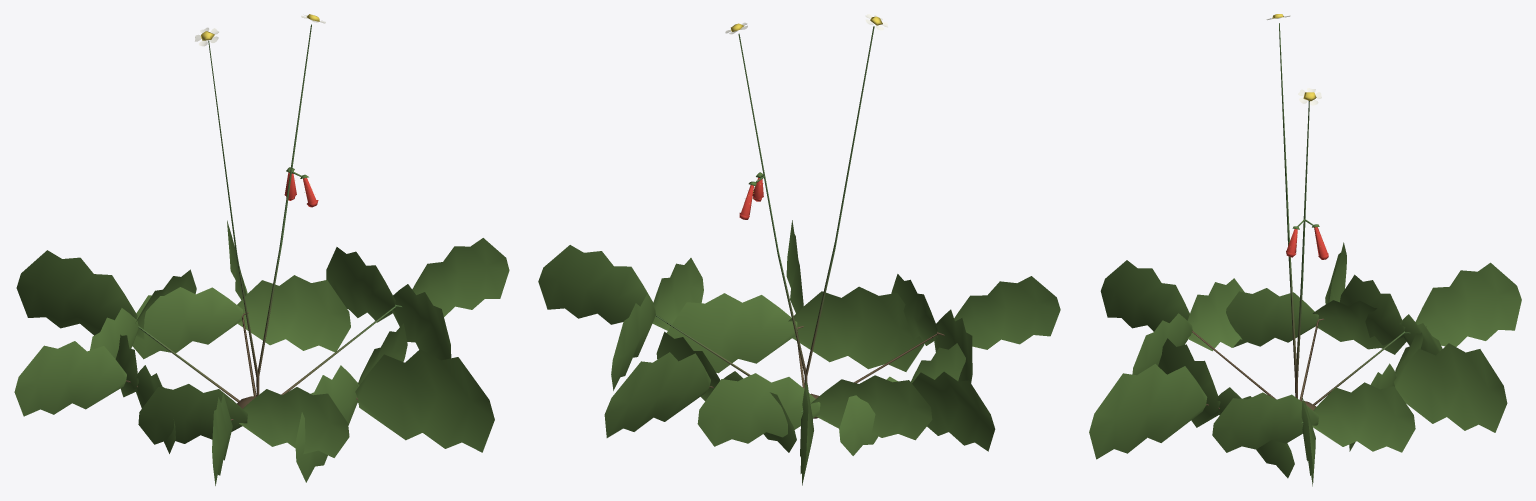
Rendered from WildStrawberry_lod1.glb.
3 views of the same model, side by side, from view 1: azimuth 30°, elevation 25°; view 2: azimuth 150°, elevation 25°; view 3: azimuth 270°, elevation 25° (orthographic). The views are drawn at different scales.
Parts seen in each view (by area): view 1: Plant_LOD1; view 2: Plant_LOD1; view 3: Plant_LOD1.
Part boxes in pixels (x1,y1,x2,y2): Plant_LOD1: (14,14,509,485); Plant_LOD1: (538,14,1060,485); Plant_LOD1: (1089,14,1521,486).
Bounding box in the file's own units: 0.2987 × 0.2469 × 0.252.
